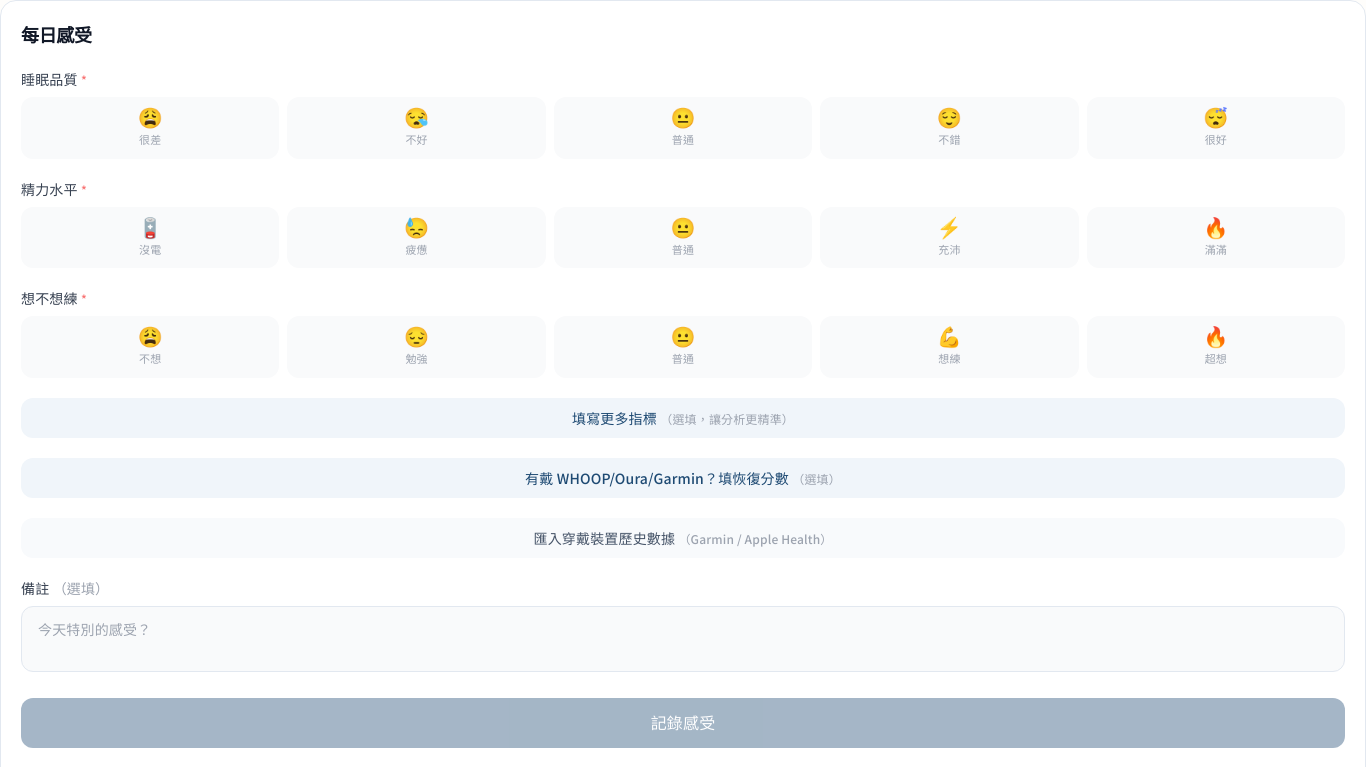
Test: DailyWellness › shows extra metrics when the "fill more" button is clicked
The "fill more metrics" button
Click the button "填寫更多指標 （選填，讓分析更精準）". click: (683, 418)
box: top-left (21, 398), bottom-right (1345, 438)
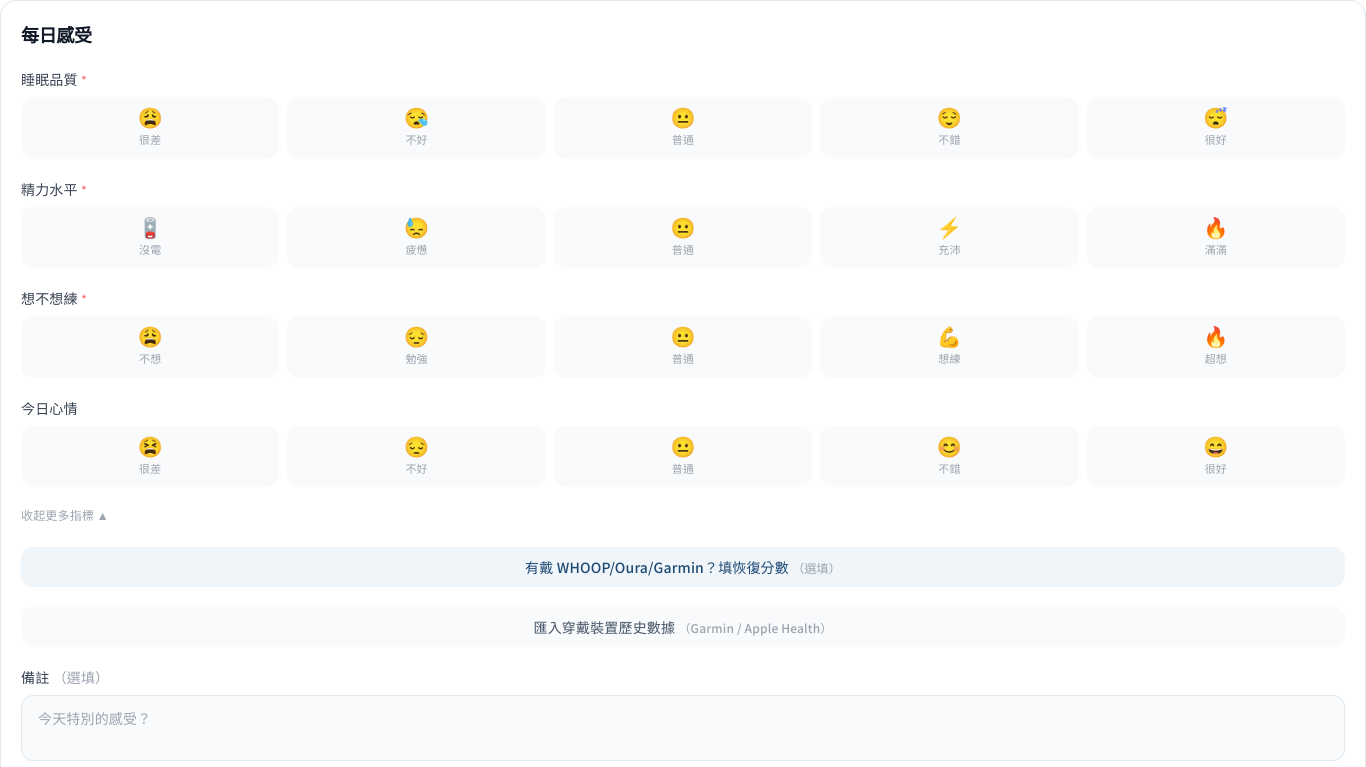
Expected: the text "今日心情" is shown, top-left (21, 398), bottom-right (78, 418)
